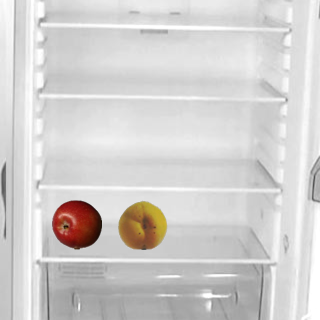Apple Braeburn: (51, 199, 101, 249)
Peach 2: (117, 199, 167, 249)
